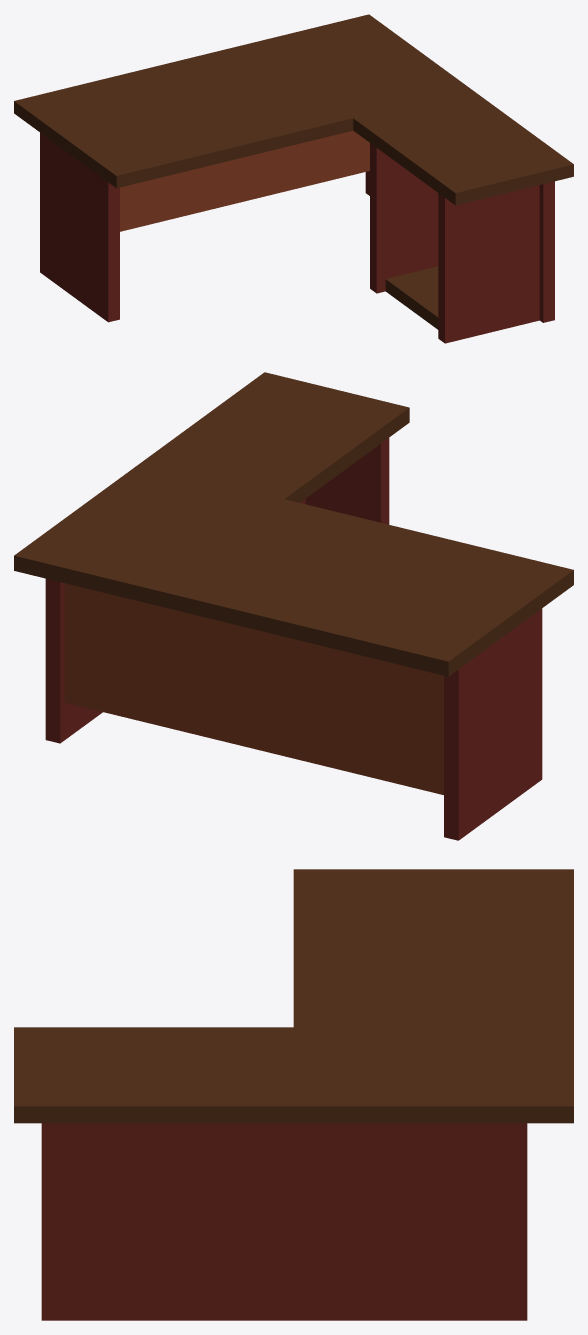
The model's file is TeacherDesk.fbx.
3 renders of one model, top to bottom at view 1: azimuth 30°, elevation 25°; view 2: azimuth 150°, elevation 25°; view 3: azimuth 270°, elevation 25°, orthographic. The views are drawn at different scales.
Parts seen in each view (by area): view 1: Desk, Drawer_Right, Leg_1, SideLeg, Drawer_Left, Leg_2, Drawer_Down; view 2: Desk, SideLeg, Leg_1, Drawer_Right, Leg_2; view 3: Desk, Leg_2.
Part boxes in pixels (left/top/right/bottom): Desk: left=14, top=14, right=573, bottom=205; Drawer_Right: left=438, top=185, right=539, bottom=343; Leg_1: left=40, top=132, right=119, bottom=322; SideLeg: left=120, top=131, right=369, bottom=231; Drawer_Left: left=370, top=143, right=438, bottom=293; Leg_2: left=365, top=171, right=554, bottom=322; Drawer_Down: left=385, top=266, right=438, bottom=329; Desk: left=14, top=372, right=573, bottom=676; SideLeg: left=64, top=583, right=443, bottom=794; Leg_1: left=444, top=608, right=542, bottom=840; Drawer_Right: left=305, top=438, right=389, bottom=524; Leg_2: left=45, top=578, right=102, bottom=743; Desk: left=14, top=869, right=573, bottom=1123; Leg_2: left=41, top=1123, right=527, bottom=1320.
Size of the model in its own units: 600 by 260 by 600.
